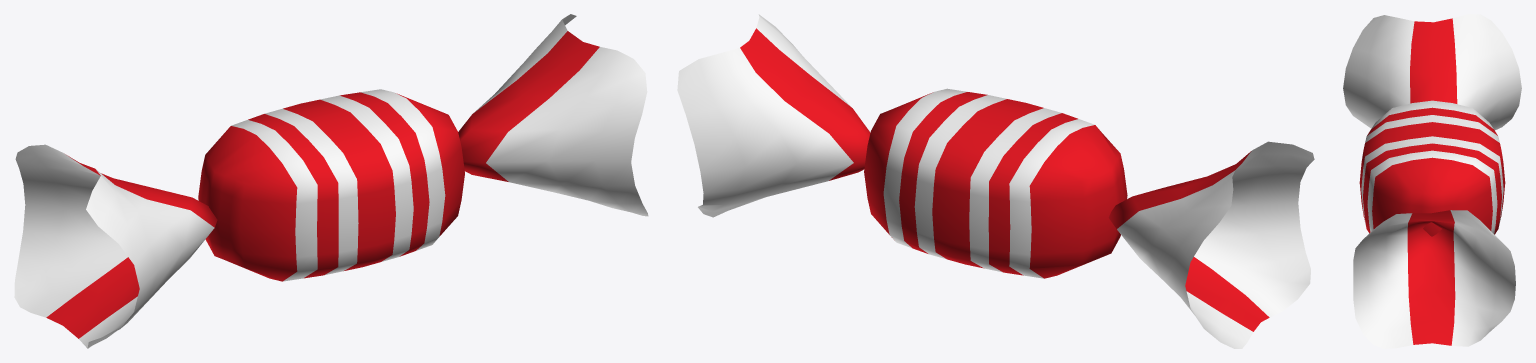
Rendered from candy_Cor1_v3.fbx.
3 renders of one model, left to right at view 1: azimuth 30°, elevation 25°; view 2: azimuth 150°, elevation 25°; view 3: azimuth 270°, elevation 25°, orthographic. The views are drawn at different scales.
Visible parts, largest first — view 1: candy; view 2: candy; view 3: candy.
Part boxes in pixels (x1,y1,x2,y2): candy: [14, 14, 648, 348]; candy: [677, 14, 1314, 348]; candy: [1343, 14, 1521, 348].
Bounding box in the file's own units: 29.47 × 8.43 × 10.32.
